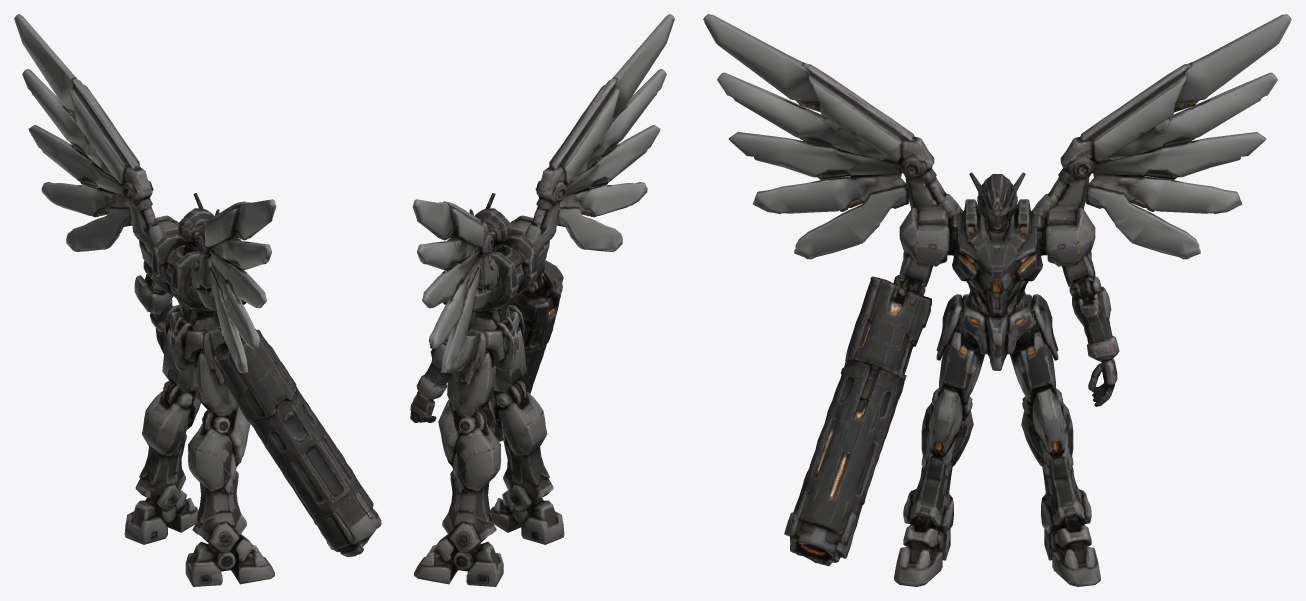
The model's file is 643b8c72-4326-491e-aa6f-1f029a03ab78-model_url.glb.
3 views of the same model, side by side, from view 1: azimuth 30°, elevation 25°; view 2: azimuth 150°, elevation 25°; view 3: azimuth 270°, elevation 25° (orthographic). The views are drawn at different scales.
Parts seen in each view (by area): view 1: tripo_node_fa47e26c-98f7-4ae5-baec-99f8e93b748b; view 2: tripo_node_fa47e26c-98f7-4ae5-baec-99f8e93b748b; view 3: tripo_node_fa47e26c-98f7-4ae5-baec-99f8e93b748b.
Boxes of the visible parts, x1,y1,x2,y2 form: tripo_node_fa47e26c-98f7-4ae5-baec-99f8e93b748b: [14, 14, 381, 586]; tripo_node_fa47e26c-98f7-4ae5-baec-99f8e93b748b: [410, 14, 674, 586]; tripo_node_fa47e26c-98f7-4ae5-baec-99f8e93b748b: [703, 14, 1291, 586].
Size of the model in its own units: 0.3503 by 0.9746 by 0.9961.
Materials: 1 (1 with a texture image).
